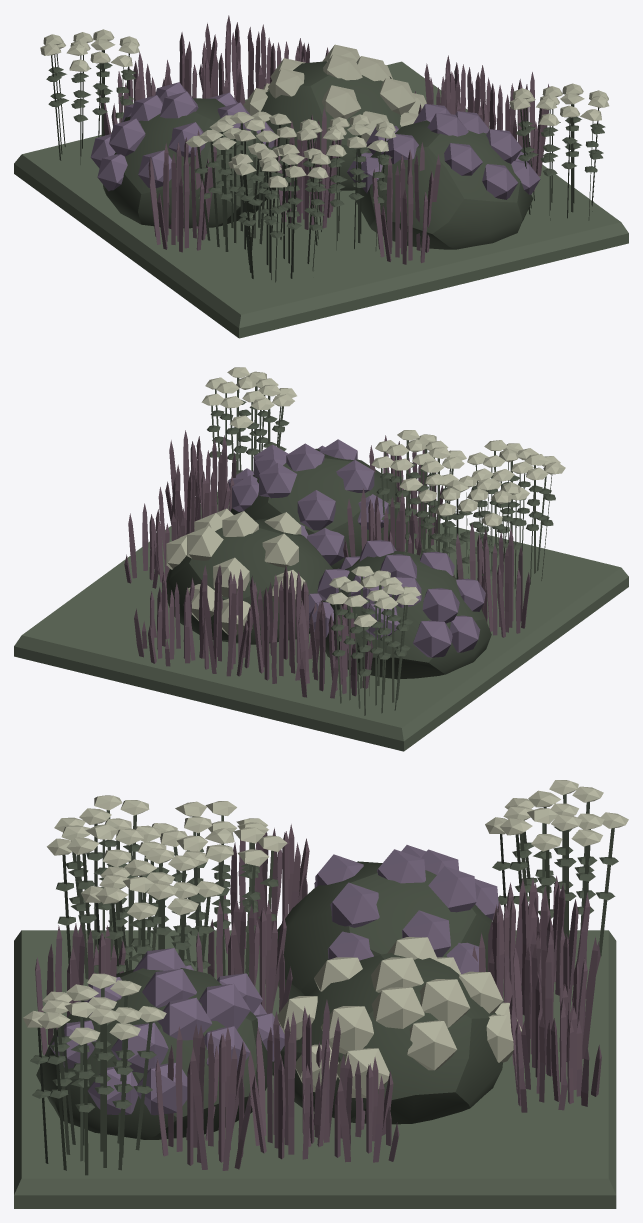
File: fleurs.fbx
3 renders of one model, top to bottom at view 1: azimuth 30°, elevation 25°; view 2: azimuth 150°, elevation 25°; view 3: azimuth 270°, elevation 25°, orthographic. The views are drawn at different scales.
Parts seen in each view (by area): view 1: polySurface58; view 2: polySurface58; view 3: polySurface58.
Boxes of the visible parts, left/top/right/bottom form: polySurface58: left=14, top=15, right=628, bottom=338; polySurface58: left=14, top=367, right=628, bottom=751; polySurface58: left=14, top=780, right=628, bottom=1208.
Bounding box in the file's own units: 101 × 36.97 × 102.
